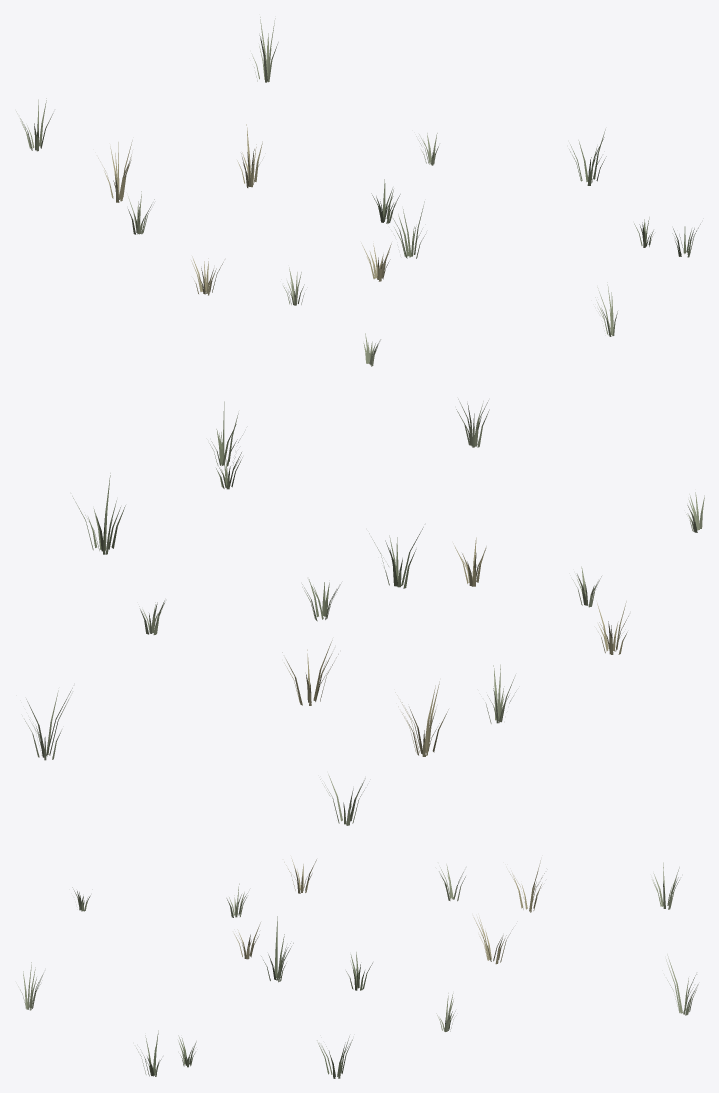
The model's file is AE_Grass_0_2.fbx.
The picture shows the model from 3 angles, top to bottom: view 1: azimuth 30°, elevation 25°; view 2: azimuth 150°, elevation 25°; view 3: azimuth 270°, elevation 25°; orthographic projection. The views are drawn at different scales.
Parts seen in each view (by area): view 1: AE_Grass_0_2_LOD0; view 2: AE_Grass_0_2_LOD0; view 3: AE_Grass_0_2_LOD0.
Part boxes in pixels (bbox=[...]): AE_Grass_0_2_LOD0: bbox=[16, 17, 700, 366]; AE_Grass_0_2_LOD0: bbox=[24, 399, 704, 825]; AE_Grass_0_2_LOD0: bbox=[18, 858, 698, 1078].
Size of what is drawn, in the model's own units: 776 by 106 by 1128.
